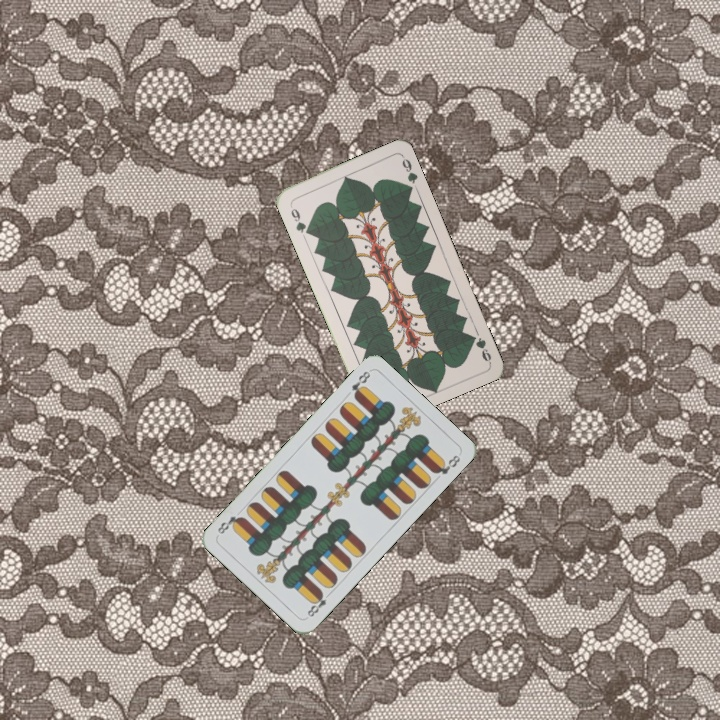E8: (303, 588, 334, 619), (348, 367, 373, 401)
G9: (286, 200, 313, 237), (466, 330, 494, 365)
